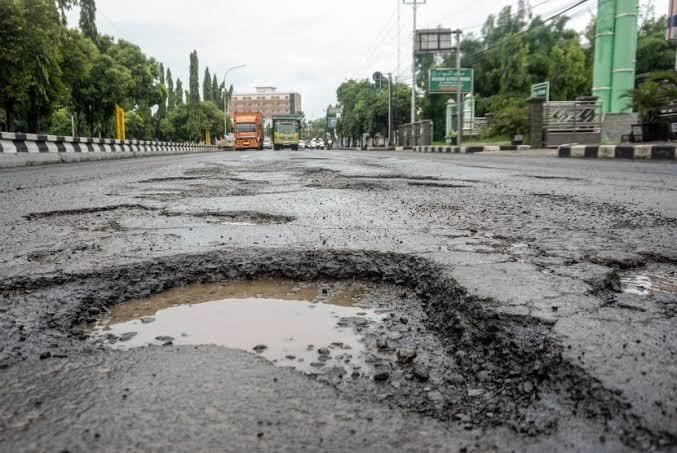Pothole: (32, 240, 647, 453), (9, 179, 301, 241), (575, 218, 677, 323), (285, 148, 466, 204), (139, 159, 250, 192), (524, 157, 610, 188)
